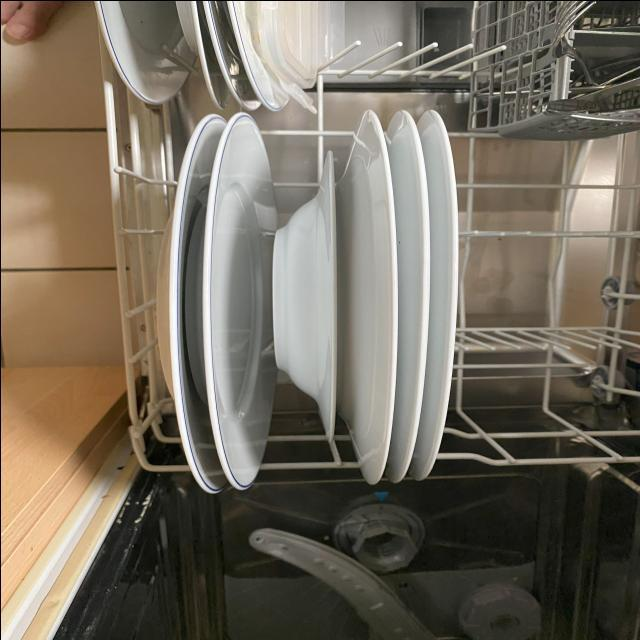empty_slot: (483, 135, 615, 449)
